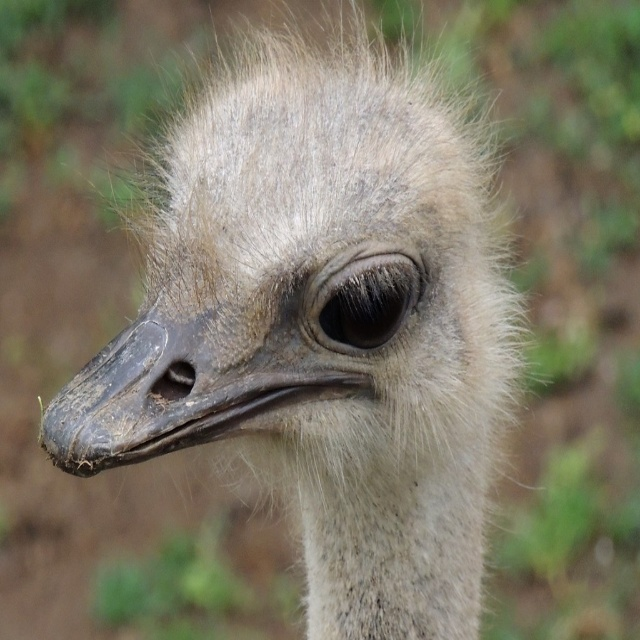Ostrich: (36, 51, 492, 639)
